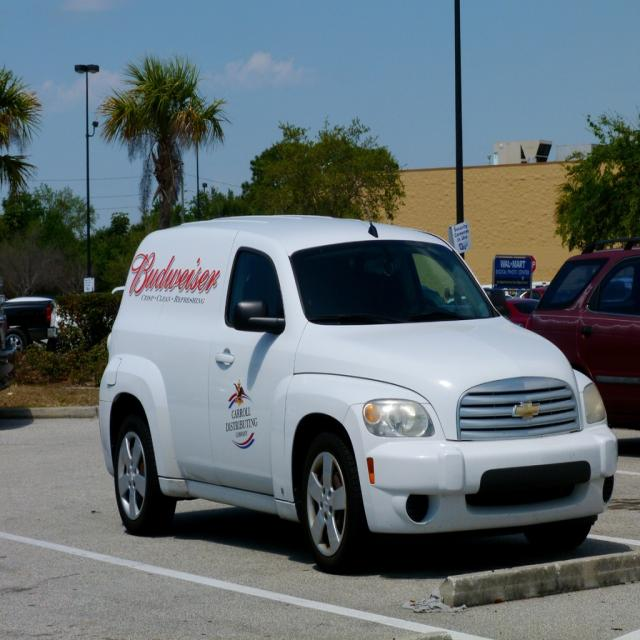car: (101, 211, 611, 570)
